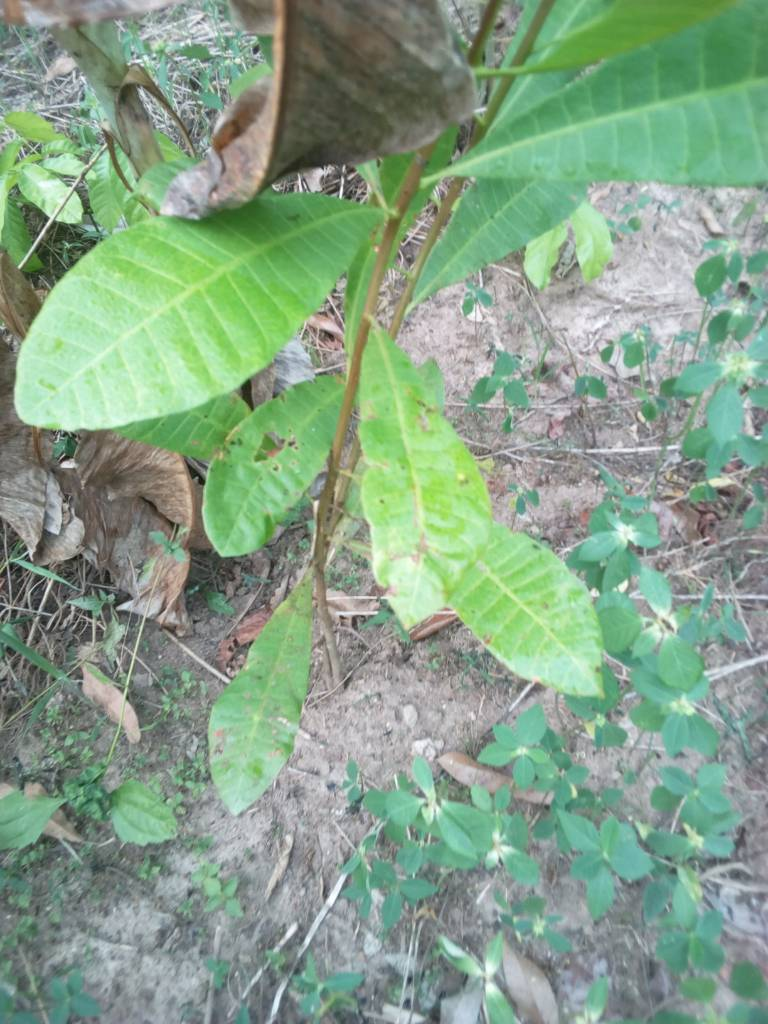Helopeltis anacardii: (360, 322, 500, 630), (200, 375, 338, 558)
